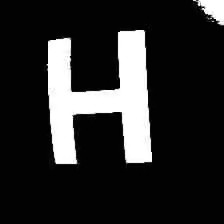LTR_H: (34, 10, 160, 181)
